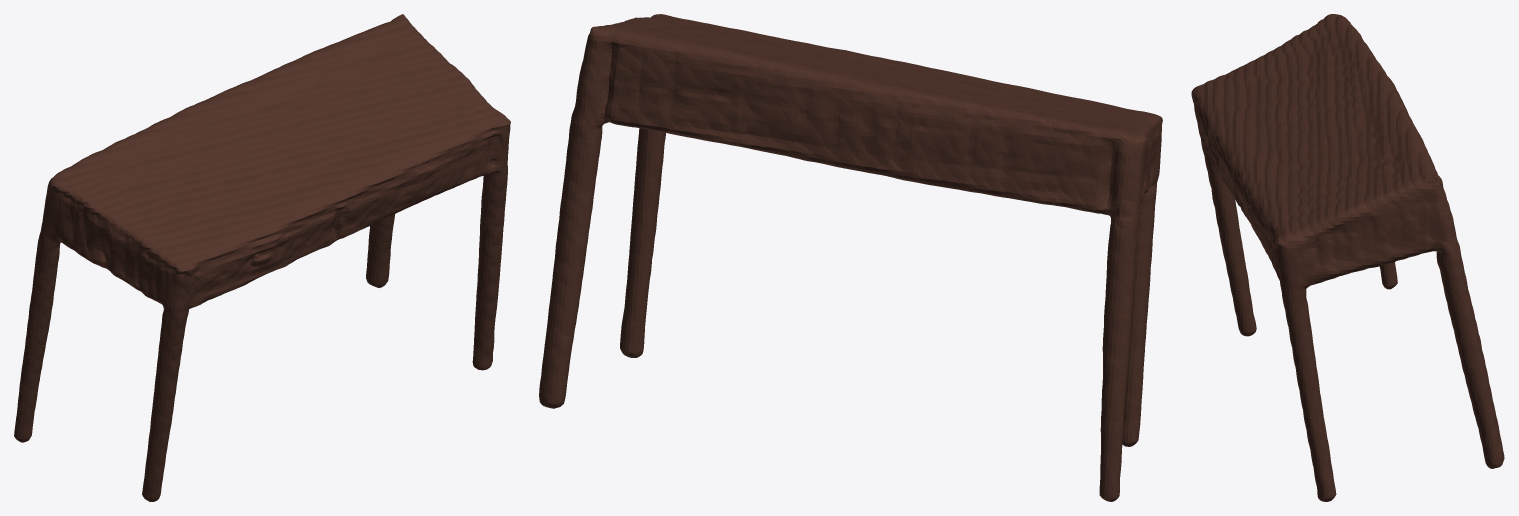
Rendered from desk_semantic.glb.
3 views of the same model, side by side, from view 1: azimuth 30°, elevation 25°; view 2: azimuth 150°, elevation 25°; view 3: azimuth 270°, elevation 25° (orthographic). The views are drawn at different scales.
Visible parts, largest first — view 1: RoomOne_Desk; view 2: RoomOne_Desk; view 3: RoomOne_Desk.
Boxes of the visible parts, x1,y1,x2,y2 form: RoomOne_Desk: (14, 14, 510, 501); RoomOne_Desk: (539, 14, 1162, 501); RoomOne_Desk: (1191, 14, 1504, 501).
Bounding box in the file's own units: 2 × 1.43 × 1.24.
